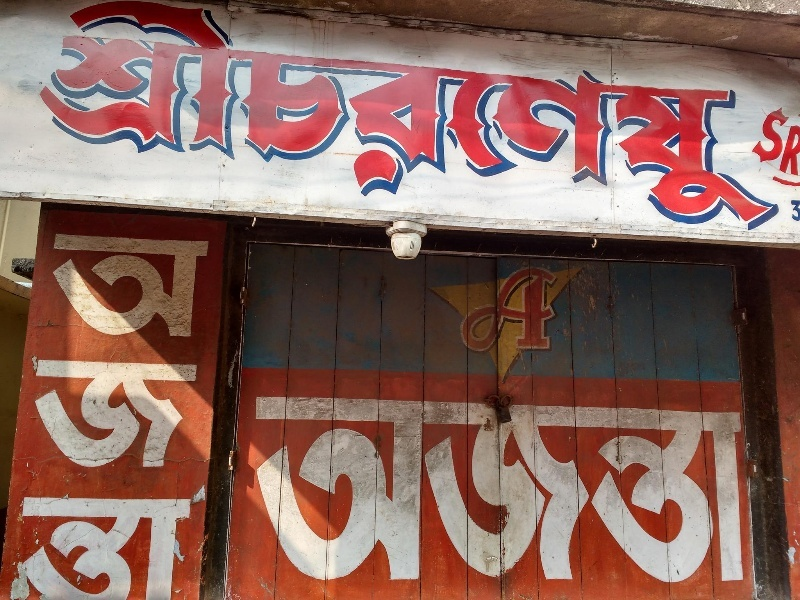text: (65, 1, 80, 234), (81, 1, 96, 234), (97, 1, 112, 234), (113, 1, 128, 234), (129, 1, 144, 234), (145, 1, 160, 234), (161, 1, 176, 234), (177, 1, 192, 234), (193, 1, 208, 234), (209, 1, 224, 234), (225, 1, 240, 234), (241, 1, 256, 234), (257, 1, 272, 234), (273, 1, 288, 234), (289, 1, 304, 234), (305, 1, 320, 234), (321, 1, 336, 234), (337, 1, 352, 234), (353, 1, 368, 234), (369, 1, 384, 234), (385, 1, 400, 234), (401, 1, 416, 234), (417, 1, 432, 234), (433, 1, 448, 234), (449, 1, 464, 234), (465, 1, 480, 234), (481, 1, 496, 234), (497, 1, 512, 234), (513, 1, 528, 234), (529, 1, 544, 234), (545, 1, 560, 234), (561, 1, 576, 234), (577, 1, 592, 234), (593, 1, 608, 234), (609, 1, 624, 234), (625, 1, 640, 234), (641, 1, 656, 234), (657, 1, 672, 234), (673, 1, 688, 234), (689, 1, 704, 234), (705, 1, 720, 234), (721, 1, 736, 234), (737, 1, 752, 234), (753, 1, 768, 234), (769, 1, 784, 234), (257, 389, 272, 595), (273, 389, 288, 595), (289, 389, 304, 595), (305, 389, 320, 595), (321, 389, 336, 595), (337, 389, 352, 595), (353, 389, 368, 595), (369, 389, 384, 595), (385, 389, 400, 595), (401, 389, 416, 595), (417, 389, 432, 595), (433, 389, 448, 595), (449, 389, 464, 595), (465, 389, 480, 595), (481, 389, 496, 595), (497, 389, 512, 595), (513, 389, 528, 595), (529, 389, 544, 595), (545, 389, 560, 595), (561, 389, 576, 595), (577, 389, 592, 595), (593, 389, 608, 595), (609, 389, 624, 595), (625, 389, 640, 595), (641, 389, 656, 595), (657, 389, 672, 595), (673, 389, 688, 595), (689, 389, 704, 595), (705, 389, 720, 595), (721, 389, 736, 595), (737, 389, 747, 595), (49, 360, 64, 474), (65, 360, 80, 474), (81, 360, 96, 474), (97, 360, 112, 474), (113, 360, 128, 474), (129, 360, 144, 474), (145, 360, 160, 474), (161, 360, 176, 474), (177, 360, 192, 474), (785, 1, 792, 234), (65, 234, 80, 341), (81, 234, 96, 341), (97, 234, 112, 341), (113, 234, 128, 341), (129, 234, 144, 341), (145, 234, 160, 341), (161, 234, 176, 341), (177, 234, 192, 341), (193, 234, 208, 341), (33, 498, 48, 600), (49, 498, 64, 600), (65, 498, 80, 600), (81, 498, 96, 600), (97, 498, 112, 600), (113, 498, 128, 600), (129, 498, 144, 600), (145, 498, 160, 600), (161, 498, 176, 600), (177, 498, 191, 600), (465, 262, 480, 352), (481, 262, 496, 352), (497, 262, 512, 352), (513, 262, 528, 352), (529, 262, 544, 352), (250, 389, 256, 595), (769, 108, 784, 179), (785, 108, 800, 179), (39, 360, 48, 474), (545, 262, 556, 352), (56, 234, 64, 341), (24, 498, 32, 600), (61, 1, 64, 234), (193, 360, 197, 474), (764, 108, 768, 179), (791, 202, 800, 220), (463, 262, 464, 352)
